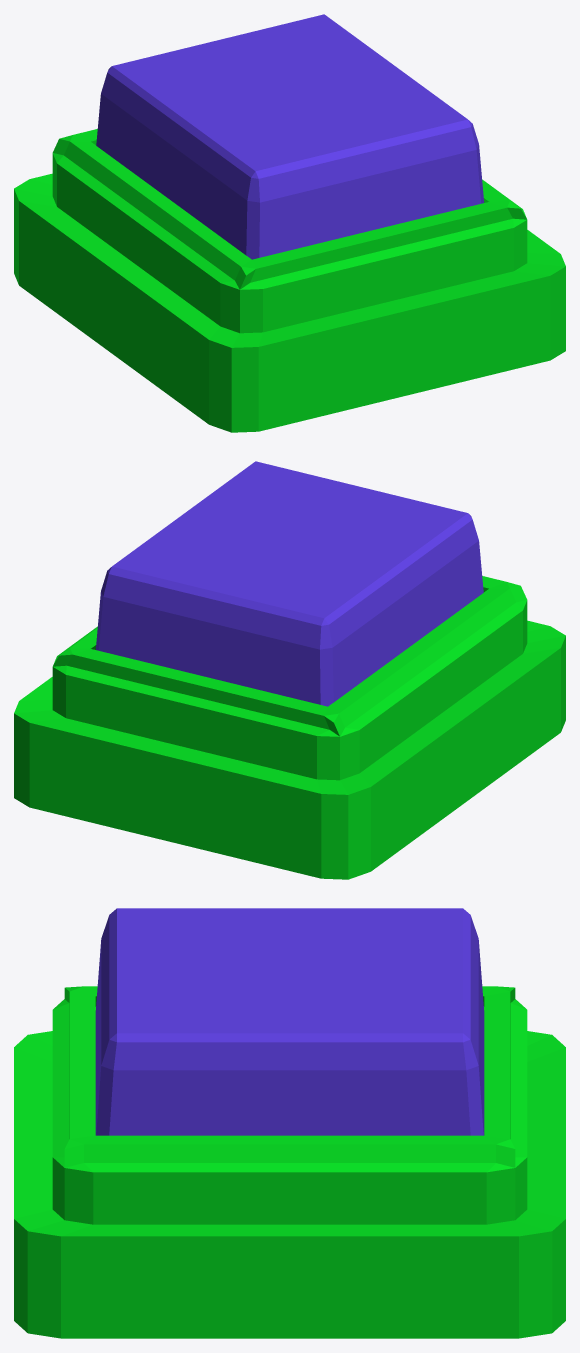
Rendered from ButtonFull.fbx.
3 views of the same model, one above another, from view 1: azimuth 30°, elevation 25°; view 2: azimuth 150°, elevation 25°; view 3: azimuth 270°, elevation 25° (orthographic). The views are drawn at different scales.
Parts seen in each view (by area): view 1: 2 - Rim, 1 - Button; view 2: 2 - Rim, 1 - Button; view 3: 2 - Rim, 1 - Button.
Part boxes in pixels (bbox=[...]): 2 - Rim: bbox=[14, 129, 565, 432]; 1 - Button: bbox=[96, 14, 484, 259]; 2 - Rim: bbox=[14, 576, 565, 879]; 1 - Button: bbox=[95, 461, 483, 706]; 2 - Rim: bbox=[14, 986, 565, 1338]; 1 - Button: bbox=[95, 908, 484, 1135].
Bounding box in the file's own units: 178 × 112 × 201.
